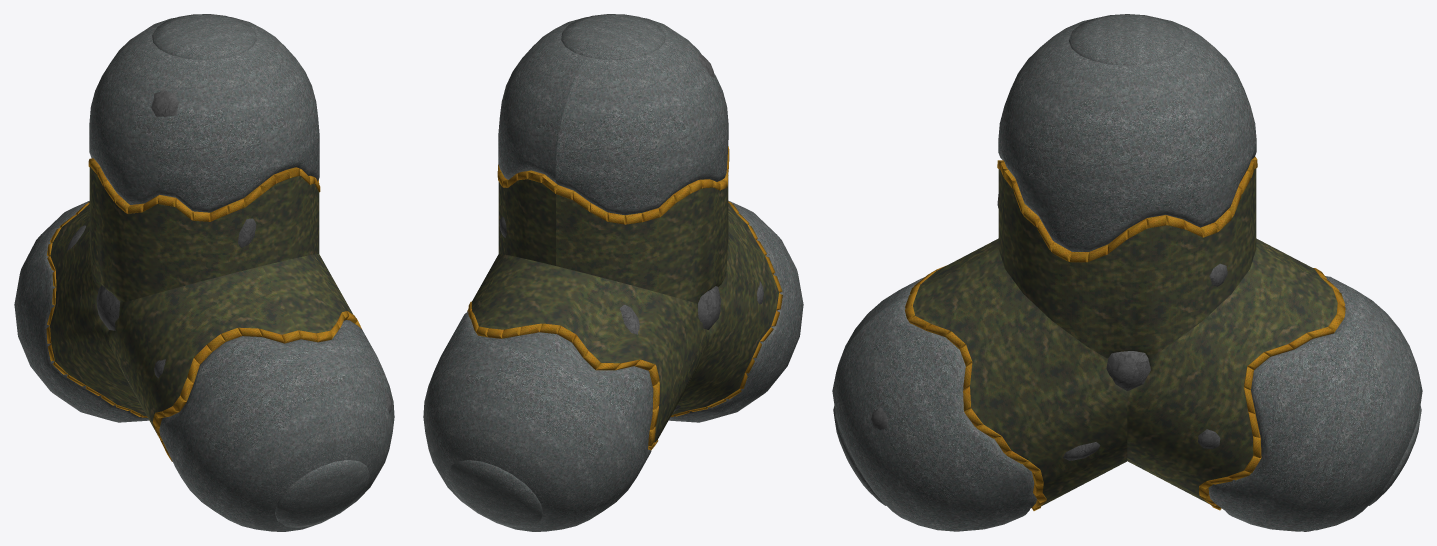
File: tridentplanet.dae
3 renders of one model, left to right at view 1: azimuth 30°, elevation 25°; view 2: azimuth 150°, elevation 25°; view 3: azimuth 270°, elevation 25°, orthographic. The views are drawn at different scales.
Visible parts, largest first — view 1: n3b2, n1b5, n2b0, n0b4, n5b1, n4b3; view 2: n3b2, n0b4, n2b0, n5b1, n1b5, n4b3; view 3: n3b2, n2b0, n0b4, n1b5, n5b1, n4b3.
Boxes of the visible parts, x1,y1,x2,y2 form: n3b2: [50, 167, 353, 438]; n1b5: [159, 320, 394, 531]; n2b0: [89, 14, 319, 212]; n0b4: [14, 201, 149, 422]; n5b1: [46, 158, 361, 461]; n4b3: [66, 90, 392, 413]; n3b2: [471, 179, 778, 442]; n0b4: [423, 311, 653, 531]; n2b0: [498, 14, 728, 215]; n5b1: [467, 146, 782, 450]; n1b5: [668, 200, 803, 422]; n4b3: [499, 53, 763, 411]; n3b2: [913, 168, 1337, 506]; n2b0: [998, 14, 1256, 251]; n0b4: [1208, 276, 1422, 531]; n1b5: [832, 277, 1036, 531]; n5b1: [905, 156, 1345, 510]; n4b3: [871, 194, 1312, 531].
Bounding box in the file's own units: 417 × 845 × 916.
